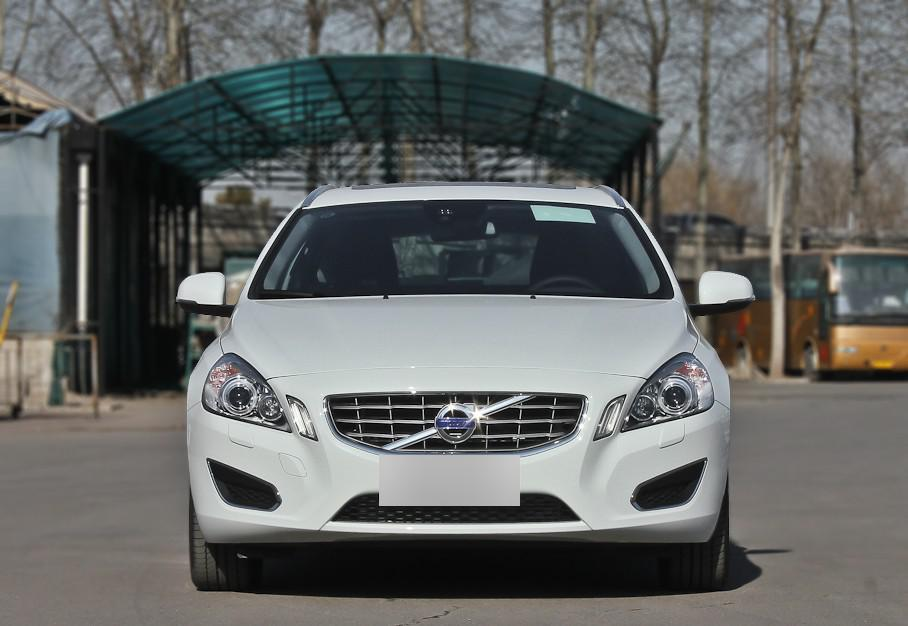Wagon: (173, 179, 755, 591)
